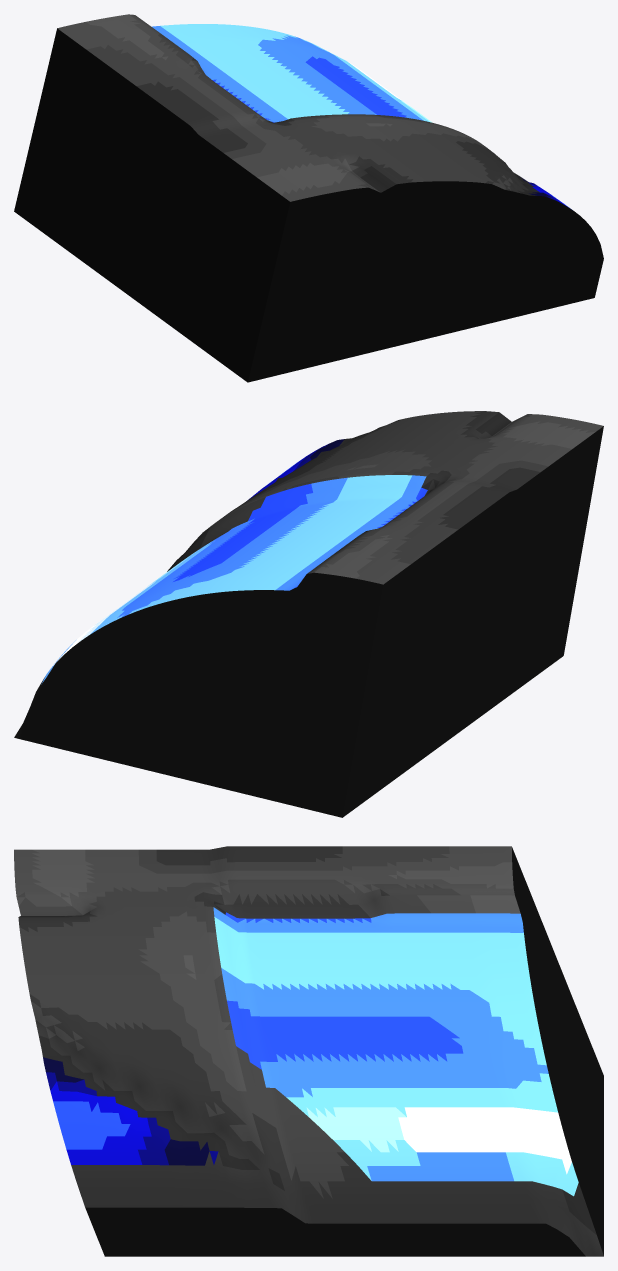
Rendered from time_capsule_128.glb.
3 views of the same model, one above another, from view 1: azimuth 30°, elevation 25°; view 2: azimuth 150°, elevation 25°; view 3: azimuth 270°, elevation 25° (orthographic). The views are drawn at different scales.
Visible parts, largest first — view 1: time_capsule_128; view 2: time_capsule_128; view 3: time_capsule_128.
Boxes of the visible parts, x1,y1,x2,y2 form: time_capsule_128: [14, 14, 603, 382]; time_capsule_128: [14, 411, 603, 817]; time_capsule_128: [14, 846, 603, 1256].
Size of the model in its own units: 24 by 14.2 by 33.1.
